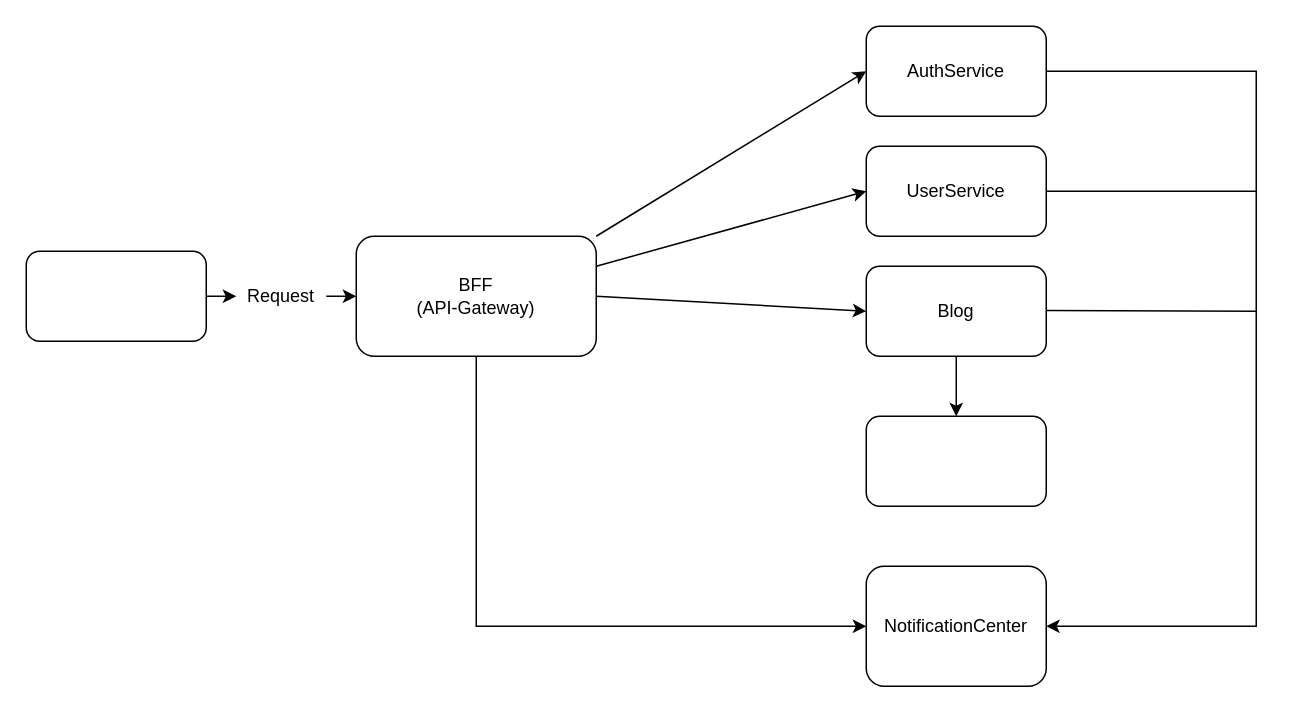
The diagram is 1295 pixels wide and 725 high, and some of its shapes have lost their labels. Here are the shapes that lost their labels. From the top down, the centre of each, then its label:
point (115, 295): Client
point (955, 460): FileVault
